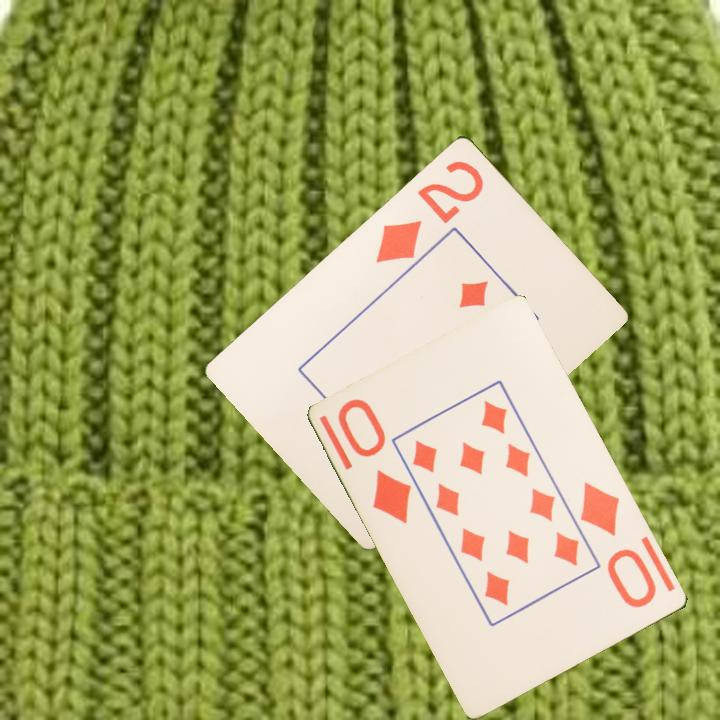10d: (577, 478, 660, 611), (334, 395, 415, 527)
2d: (371, 156, 487, 266)
